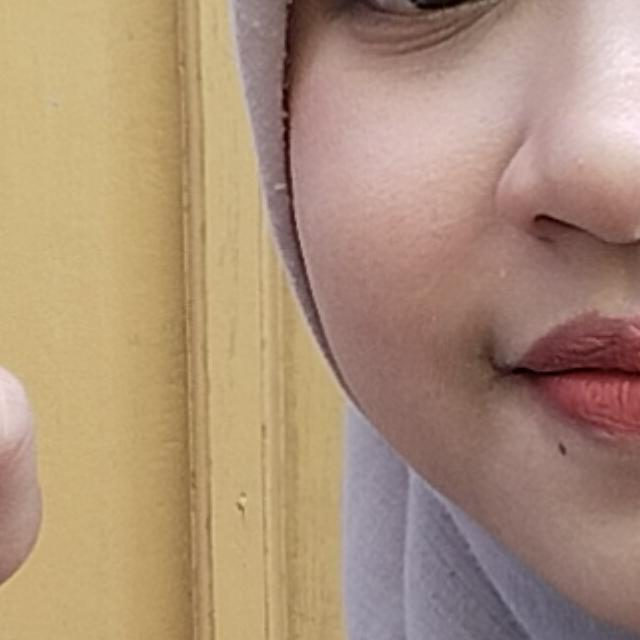baik: (0, 18, 510, 640)
